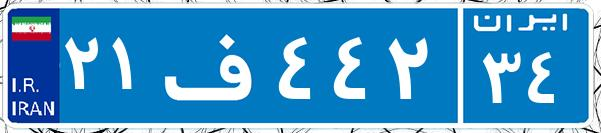1: (110, 28, 158, 105)
2: (385, 28, 445, 110), (57, 26, 110, 107)
3: (475, 38, 525, 113)
4: (273, 28, 330, 110), (330, 28, 385, 110), (525, 38, 570, 115)
ف: (158, 15, 273, 115)
